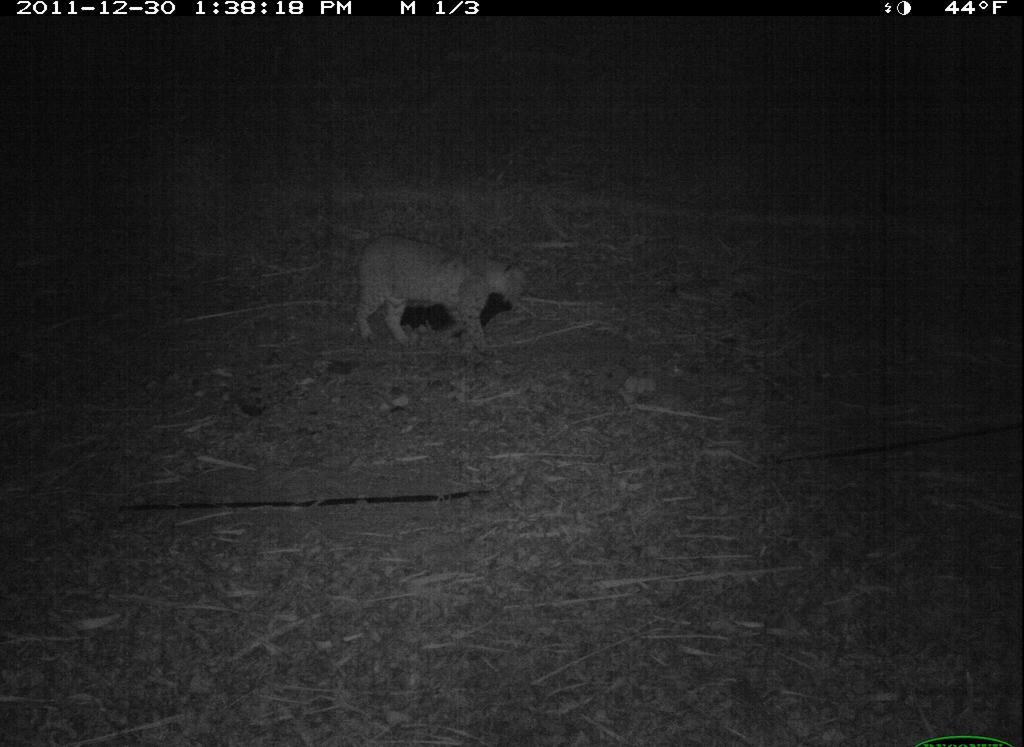bobcat: (314, 217, 548, 346)
